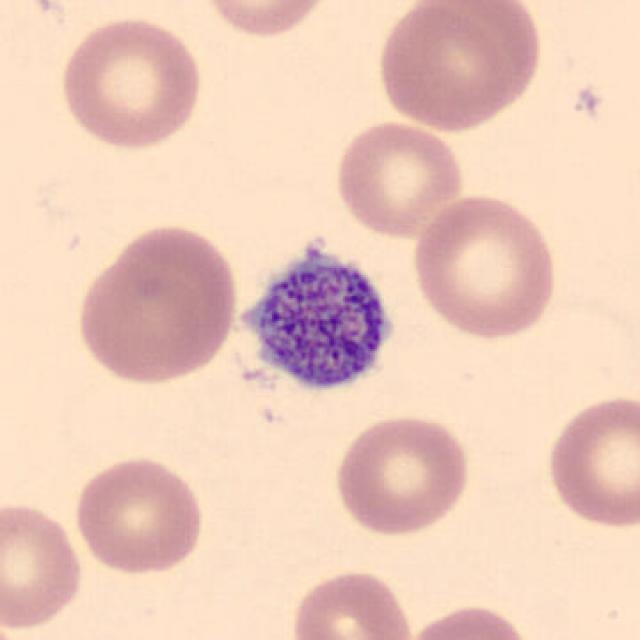Platelets: (226, 231, 407, 411)
RBC: (71, 220, 242, 388), (407, 190, 564, 342), (372, 0, 546, 134), (55, 13, 208, 154), (329, 411, 475, 539), (69, 453, 208, 577), (330, 116, 468, 240), (540, 390, 640, 532), (0, 497, 87, 633), (286, 566, 418, 640), (194, 0, 338, 41), (402, 601, 537, 640)
